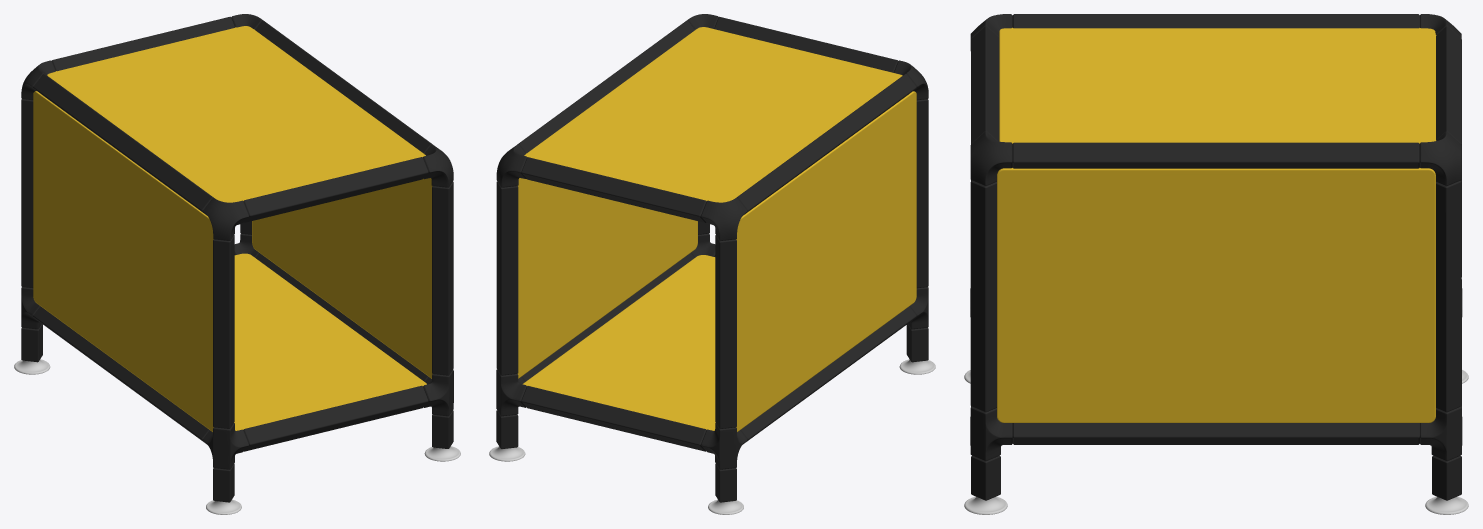
3 views of the same model, side by side, from view 1: azimuth 30°, elevation 25°; view 2: azimuth 150°, elevation 25°; view 3: azimuth 270°, elevation 25° (orthographic). The views are drawn at different scales.
Visible parts, largest first — view 1: 229x374x229; view 2: 229x374x229; view 3: 229x374x229.
Part boxes in pixels (<box>): 229x374x229: <box>14,14,460,514</box>; 229x374x229: <box>489,14,935,514</box>; 229x374x229: <box>964,14,1468,514</box>.
Bounding box in the file's own units: 0.3189 × 0.3683 × 0.4632.
